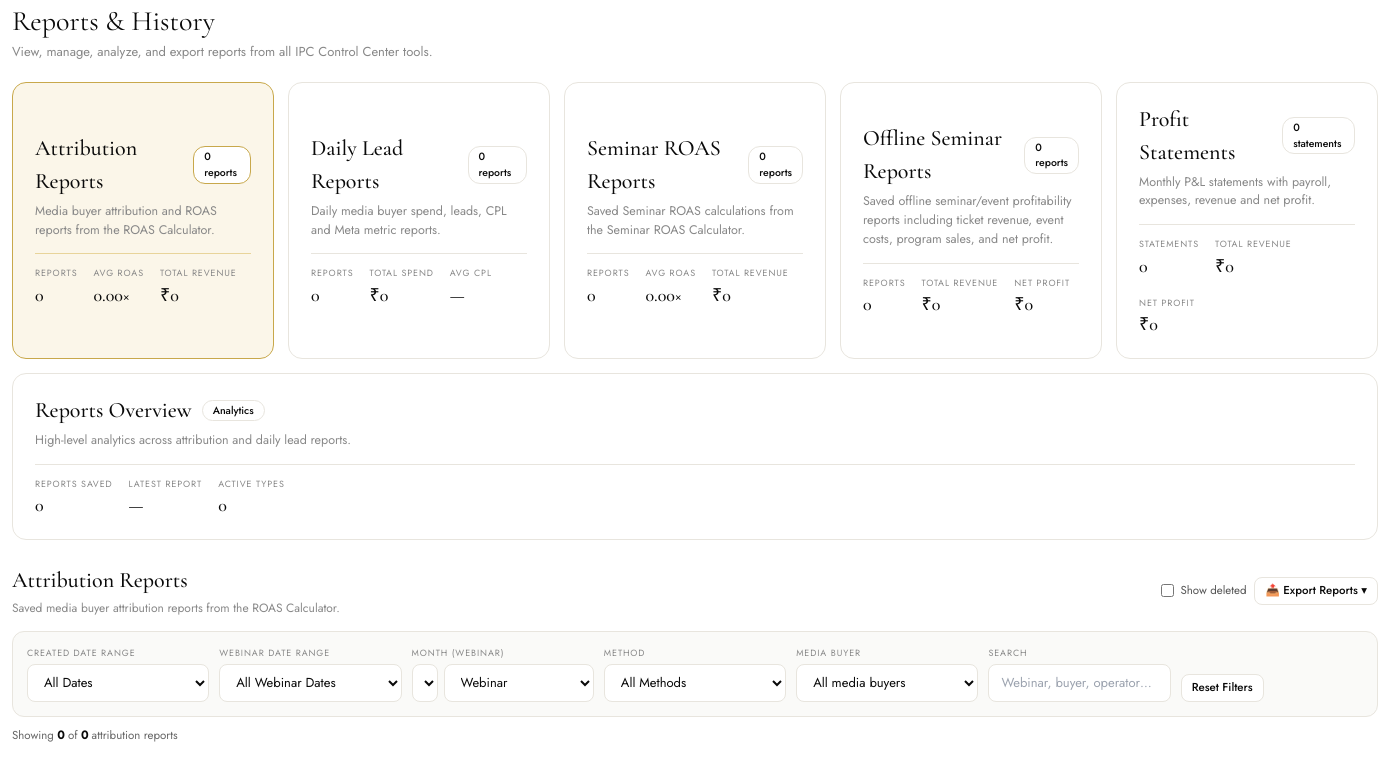
Test: Reports List Queries Narrowing Test › should render offline_seminar_reports list with mocked data
The width and height of the screenshot is (1390, 768).
What coordinates should you click on to do the following:
click the button "Offline Seminar Reports"
I would click on:
 (971, 220)
Its box is [840,82,1102,359].
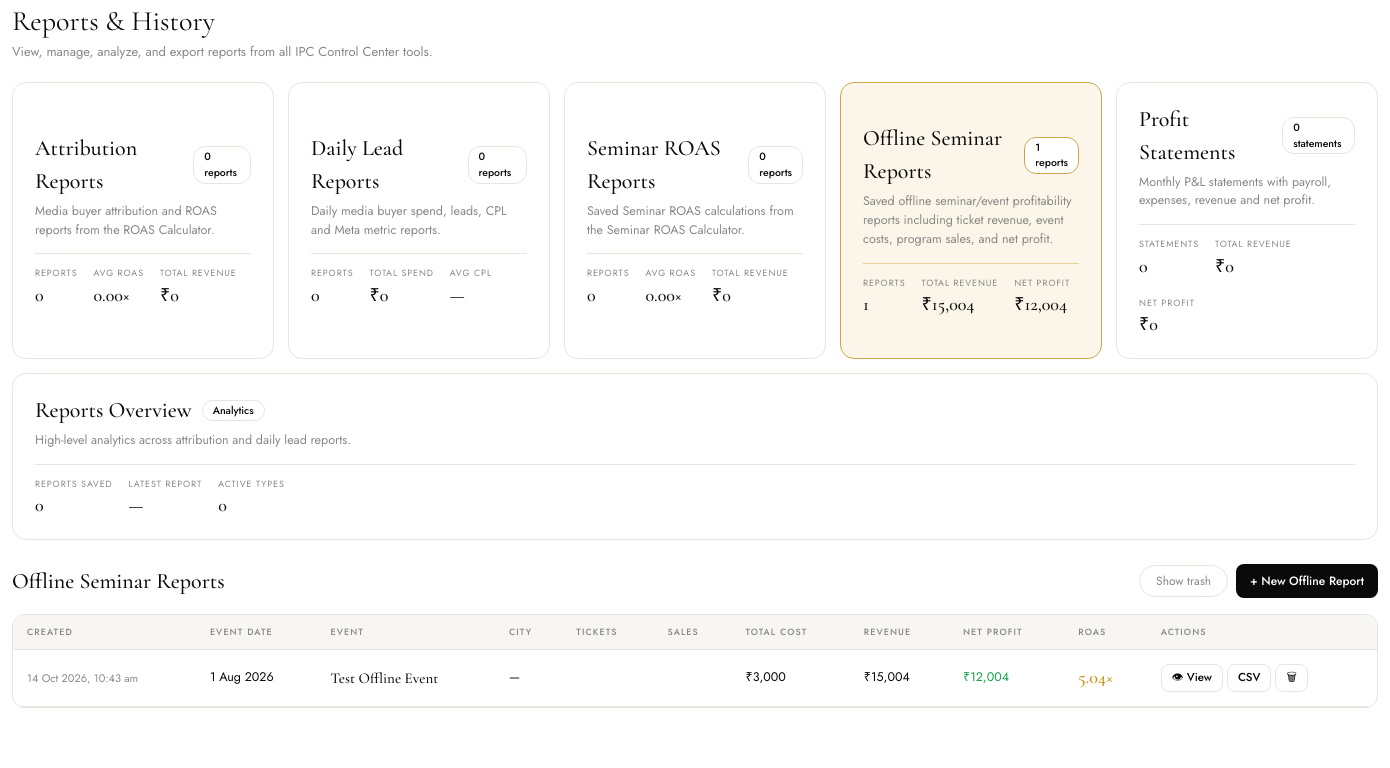
expect the text "Test Offline Event" is shown: met, box [316,649,495,706]
